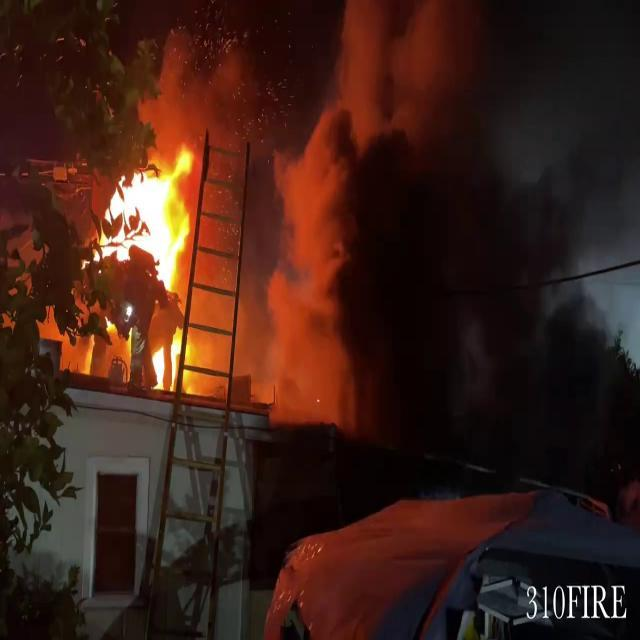Fire: (88, 144, 202, 292)
Smoke: (172, 0, 640, 445)
